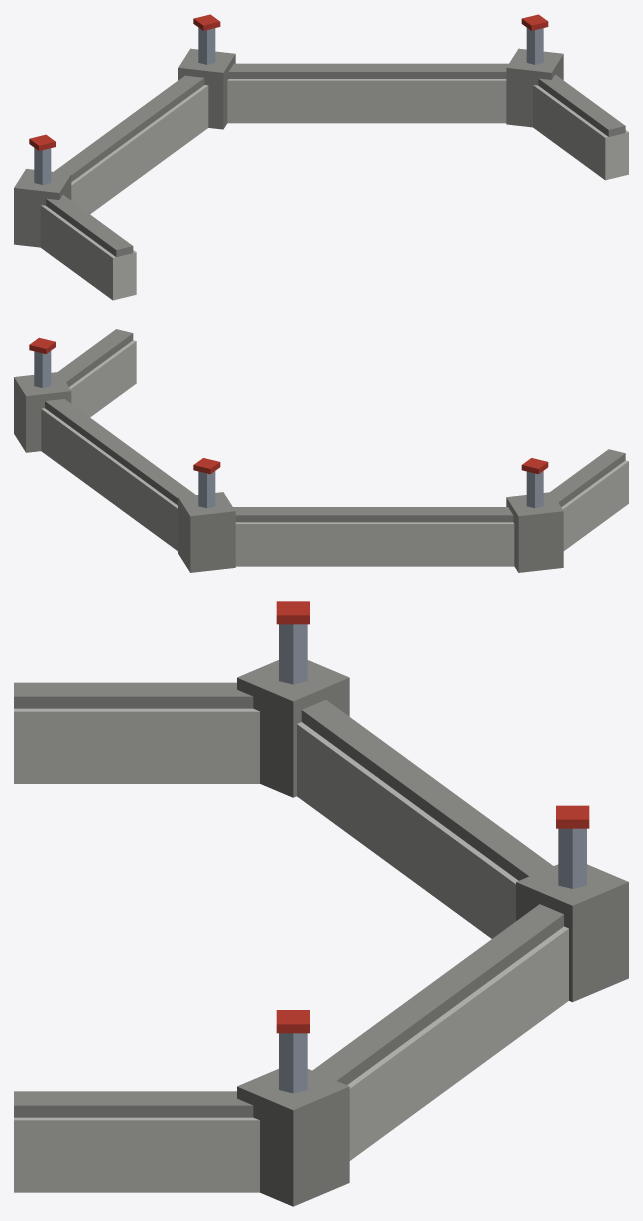
Rendered from walls_2_back.fbx.
3 views of the same model, one above another, from view 1: azimuth 30°, elevation 25°; view 2: azimuth 150°, elevation 25°; view 3: azimuth 270°, elevation 25° (orthographic). The views are drawn at different scales.
Parts seen in each view (by area): view 1: walls_2_back; view 2: walls_2_back; view 3: walls_2_back.
Boxes of the visible parts, x1,y1,x2,y2 form: walls_2_back: (14, 14, 628, 300); walls_2_back: (14, 329, 628, 572); walls_2_back: (14, 601, 628, 1206).
Size of the model in its own units: 162 by 27.5 by 92.49.
